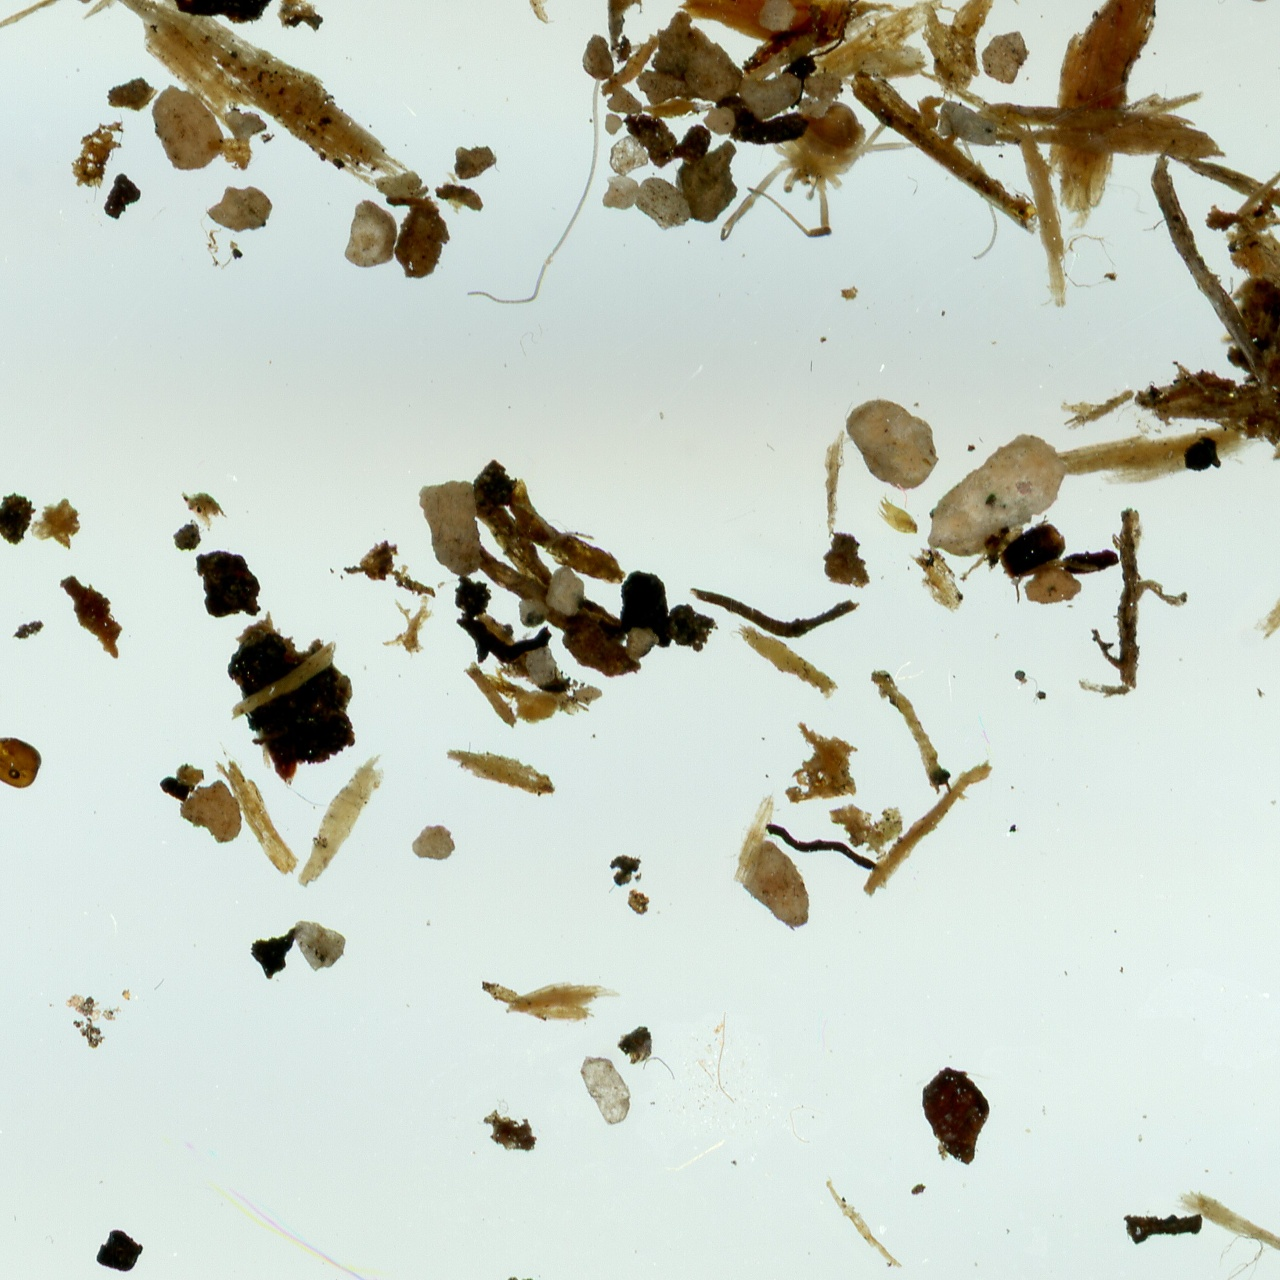arthropod: (463, 40, 1001, 307)
